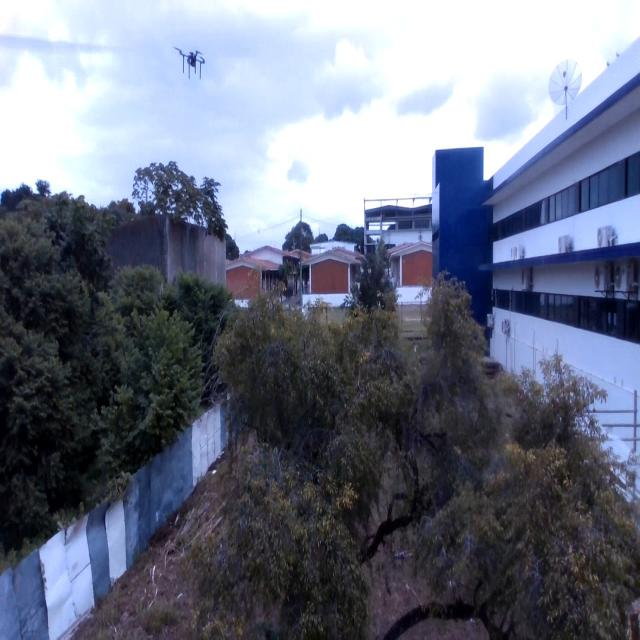-uav-: (173, 42, 211, 96)
